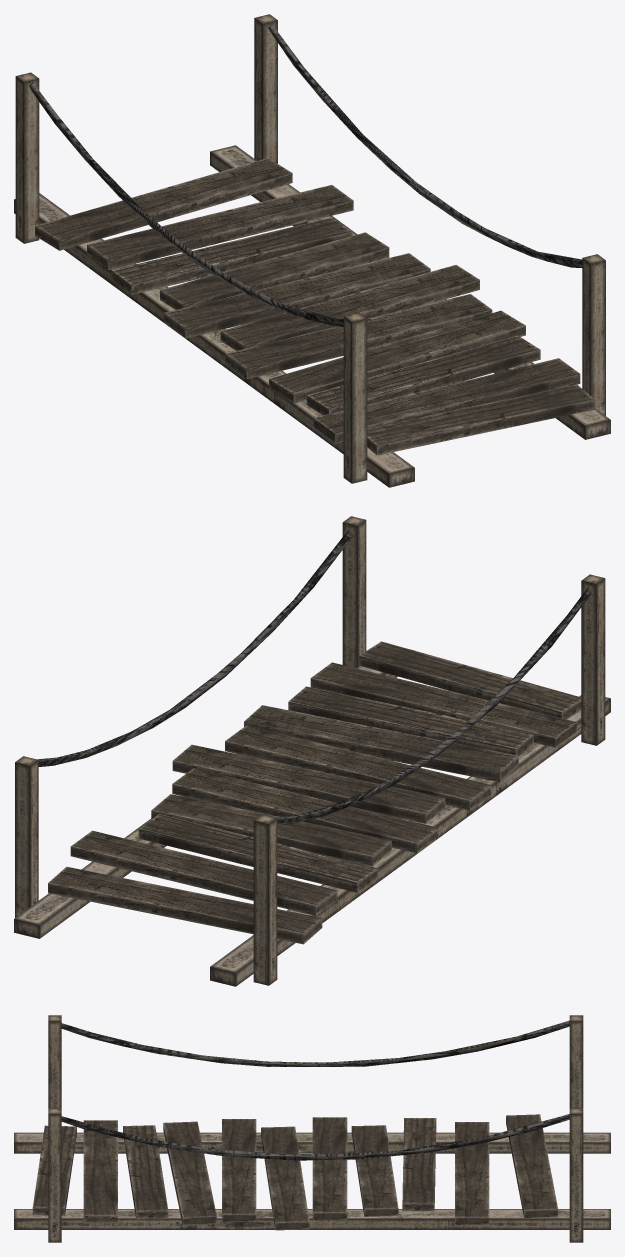
The model's file is bridge.fbx.
The picture shows the model from 3 angles, top to bottom: view 1: azimuth 30°, elevation 25°; view 2: azimuth 150°, elevation 25°; view 3: azimuth 270°, elevation 25°; orthographic projection. The views are drawn at different scales.
Parts seen in each view (by area): view 1: Object_2; view 2: Object_2; view 3: Object_2.
Boxes of the visible parts, x1,y1,x2,y2 form: Object_2: (14,14,610,487); Object_2: (14,516,610,986); Object_2: (14,1015,610,1242).
Bounding box in the file's own units: 433 × 240 × 1011.
Materials: 1 (1 with a texture image).
